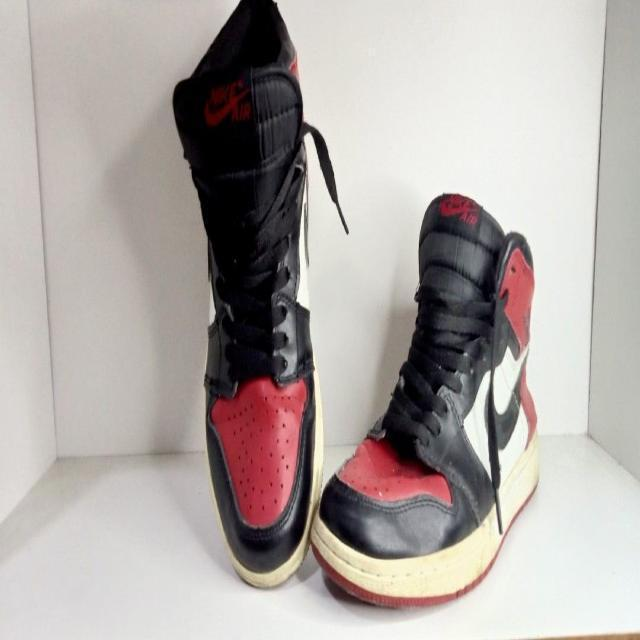nike fake jordan 1: (308, 193, 539, 618), (172, 0, 324, 591)
